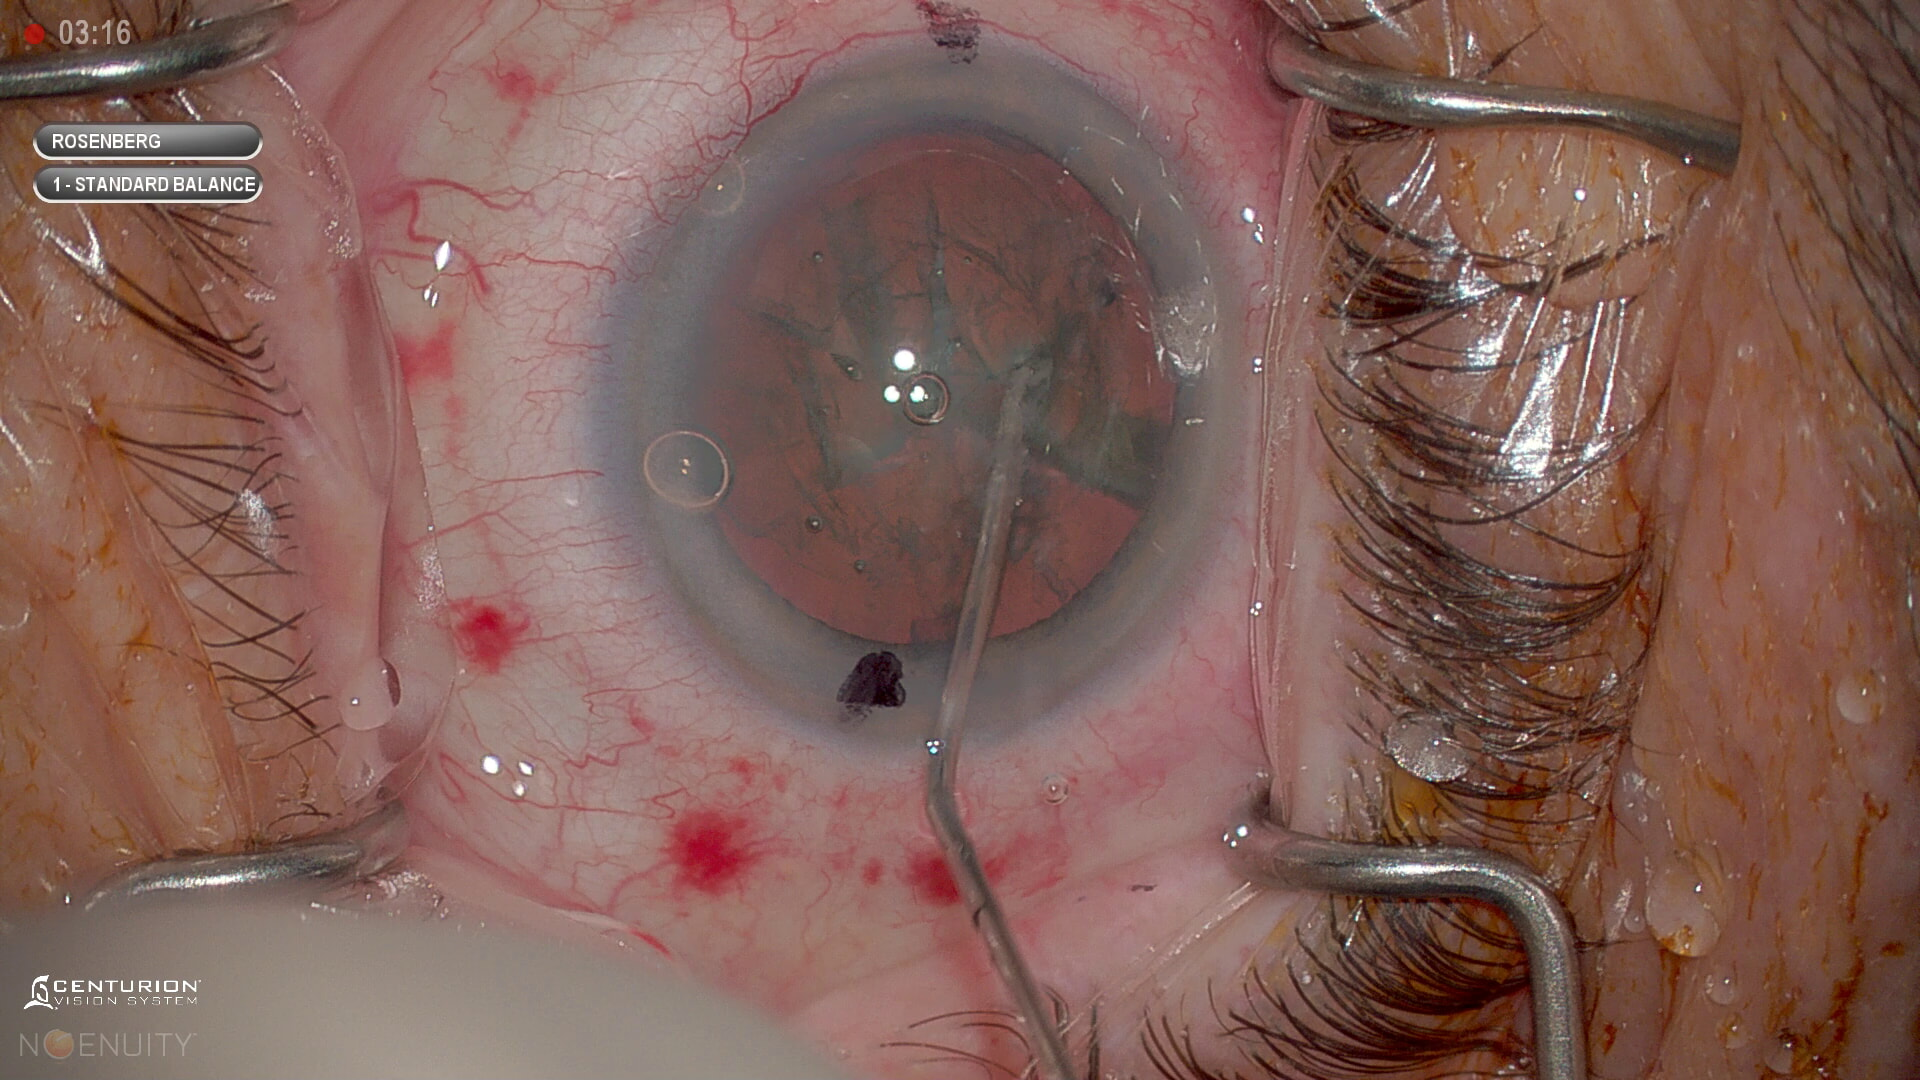iris: (611, 53, 1235, 743)
pupil: (701, 114, 1152, 648)
